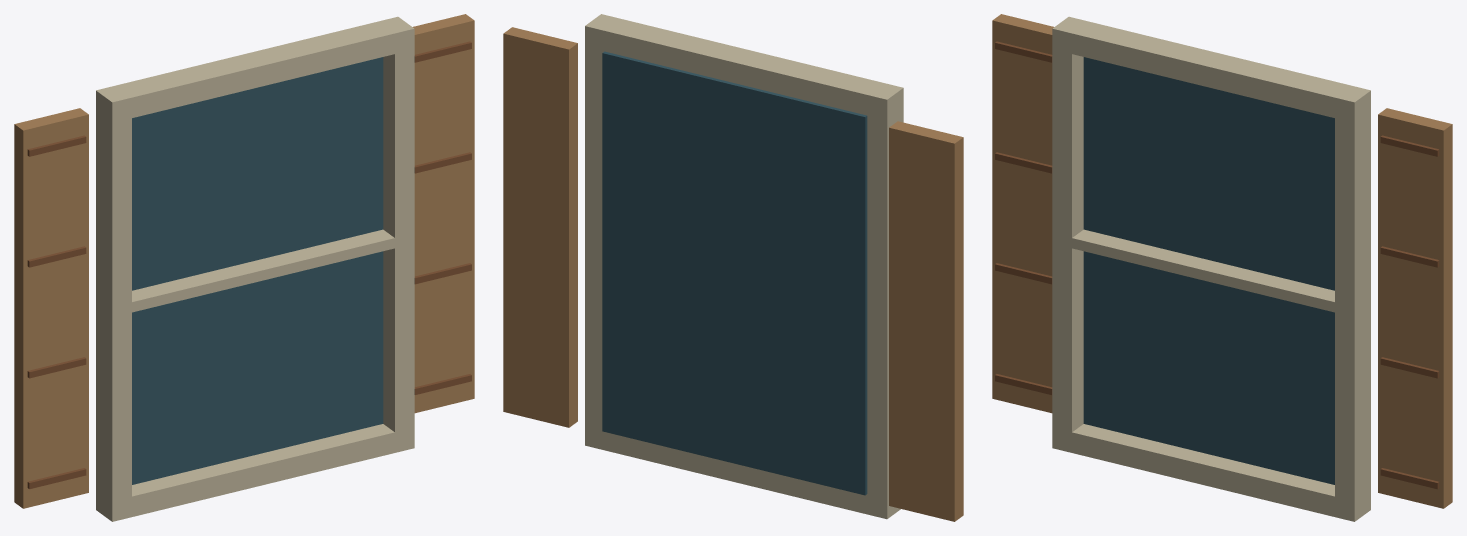
The model's file is window_00.glb.
The picture shows the model from 3 angles, left to right: view 1: azimuth 30°, elevation 25°; view 2: azimuth 150°, elevation 25°; view 3: azimuth 330°, elevation 25°; orthographic projection.
Visible parts, largest first — view 1: window_00; view 2: window_00; view 3: window_00.
Boxes of the visible parts, x1,y1,x2,y2 form: window_00: [14, 14, 474, 521]; window_00: [503, 14, 963, 521]; window_00: [992, 14, 1452, 521].
Size of the model in its own units: 2.06 by 1.83 by 0.185.
